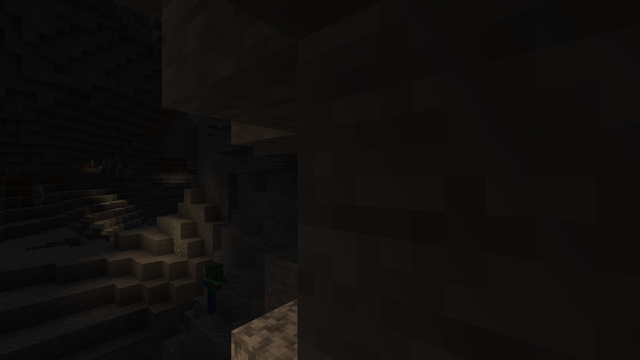squelettes: (33, 186, 42, 207)
zombies: (203, 262, 223, 316)
